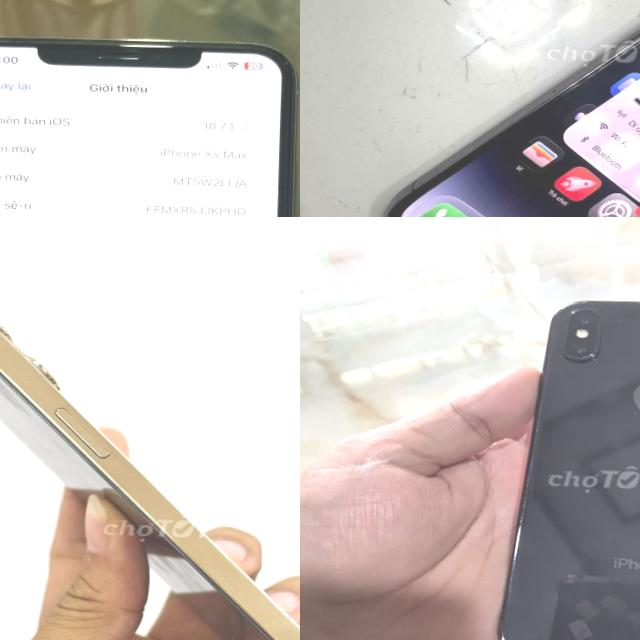gen_12_13: (0, 289, 300, 640)
gen_14: (372, 0, 640, 217)
gen_x_xs: (0, 16, 300, 217), (501, 301, 640, 640)
scratch: (504, 418, 547, 552), (584, 302, 615, 332), (580, 344, 610, 371), (487, 626, 521, 640)
